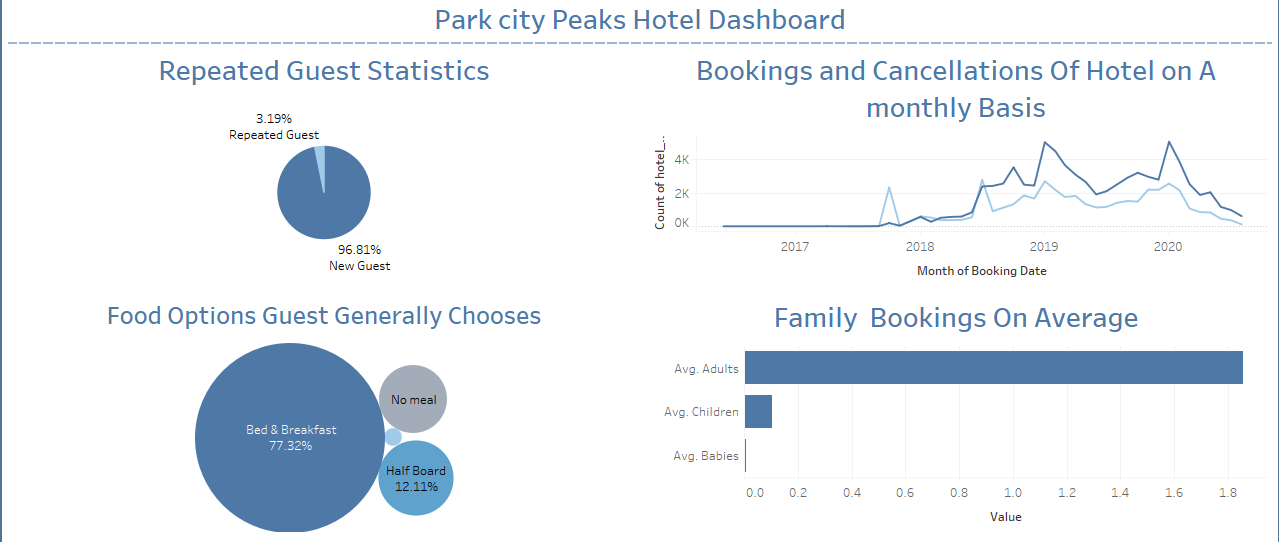

The dashboard page shown, as its layout file describes it:
{"tool":"tableau","page":{"name":"Dashboard 1","canvas":[1000,1000],"units":"permille","ordinal":0},"visuals":[{"type":"worksheet","title":"TITLE","mark":"Automatic","box":[8.1,14.3,983.7,91.1]},{"type":"worksheet","title":"REPEATED GUEST","mark":"Pie","box":[8.1,105.4,491.8,440.2]},{"type":"worksheet","title":"HOTEL BOOKINGS","mark":"Automatic","rows":["hotel!bookings_42226CDC1BAA4E1EADA2E7C2907659C3"],"cols":["booking_date"],"box":[500,105.4,491.9,440.2]},{"type":"worksheet","title":"FOOD OPTIONS","mark":"Circle","box":[8.1,545.5,491.8,440.2]},{"type":"worksheet","title":"FAMILY BOOKINGS ","mark":"Automatic","box":[500,545.5,491.9,440.2]}]}

Visuals, with their boxes on the dashboard's canvas, which has no fixed pixel size, in thousandths of its width and height (x1, y1, x2, y2). These are canvas units, not pixel positions in the 1279x542 screenshot, which may show the page scaled, cropped or inside an application window:
"TITLE" worksheet: l=8, t=14, r=992, b=105
"REPEATED GUEST" worksheet (Pie marks): l=8, t=105, r=500, b=546
"HOTEL BOOKINGS" worksheet: l=500, t=105, r=992, b=546
"FOOD OPTIONS" worksheet (Circle marks): l=8, t=546, r=500, b=986
"FAMILY BOOKINGS " worksheet: l=500, t=546, r=992, b=986
